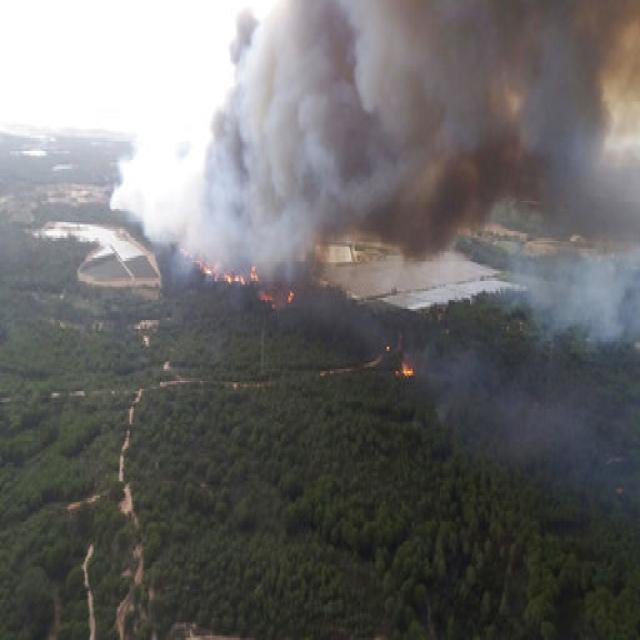Fire: (210, 262, 250, 286), (255, 284, 298, 299)
Smoke: (308, 0, 466, 209), (230, 94, 294, 255)
